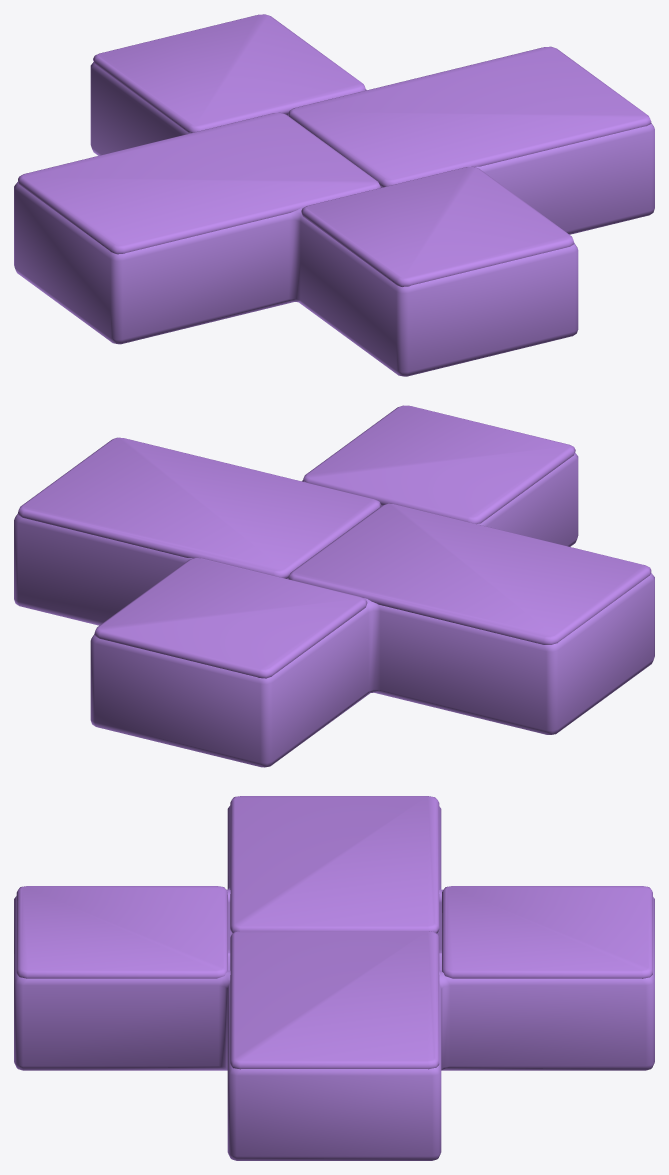
The model's file is Block-X-Purple.fbx.
3 renders of one model, top to bottom at view 1: azimuth 30°, elevation 25°; view 2: azimuth 150°, elevation 25°; view 3: azimuth 270°, elevation 25°, orthographic. The views are drawn at different scales.
Parts seen in each view (by area): view 1: Cube.042, Block-X-Purple; view 2: Cube.042, Block-X-Purple; view 3: Cube.042, Block-X-Purple.
Part boxes in pixels (box(x1,y1,x2,y2)): Cube.042: box(18, 14, 651, 286); Block-X-Purple: box(14, 62, 654, 376); Cube.042: box(18, 405, 651, 678); Block-X-Purple: box(14, 452, 654, 767); Cube.042: box(16, 796, 652, 1069); Block-X-Purple: box(14, 805, 654, 1160).
Bounding box in the file's own units: 300 × 51.89 × 300.
